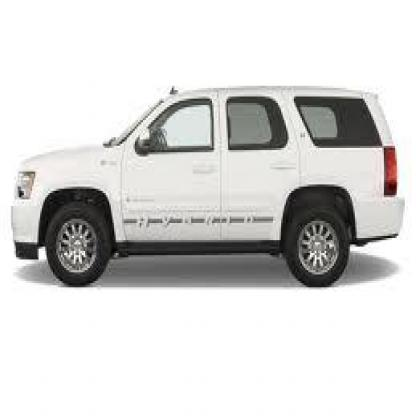Vehicle: (9, 84, 412, 292)
